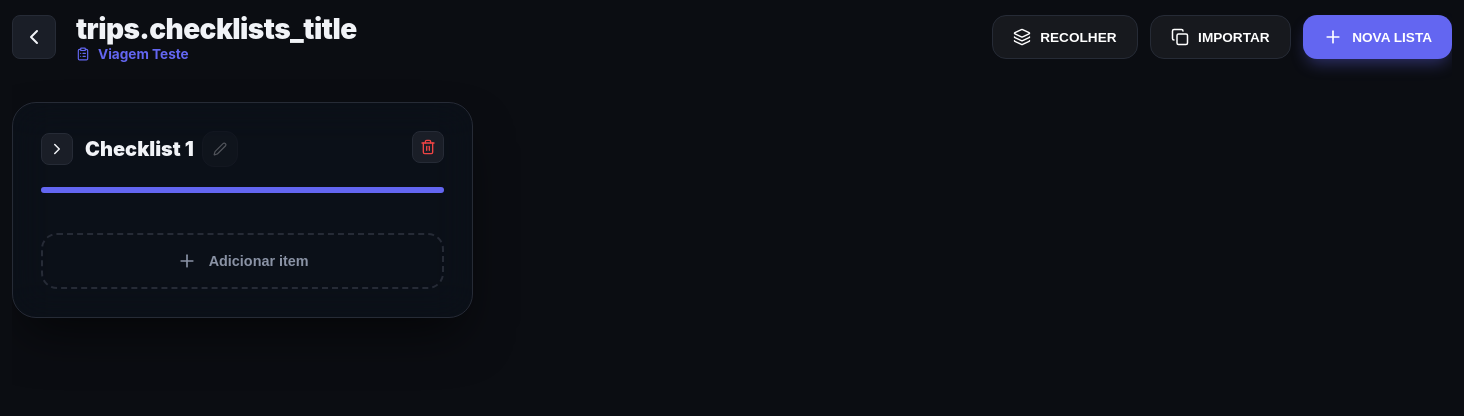
TripChecklists › allows adding an item to a checklist
Expected: the heading "Checklist 1" is shown, [85, 137, 194, 161]
Click the button "Adicionar item" at (243, 261), box [41, 233, 444, 289]
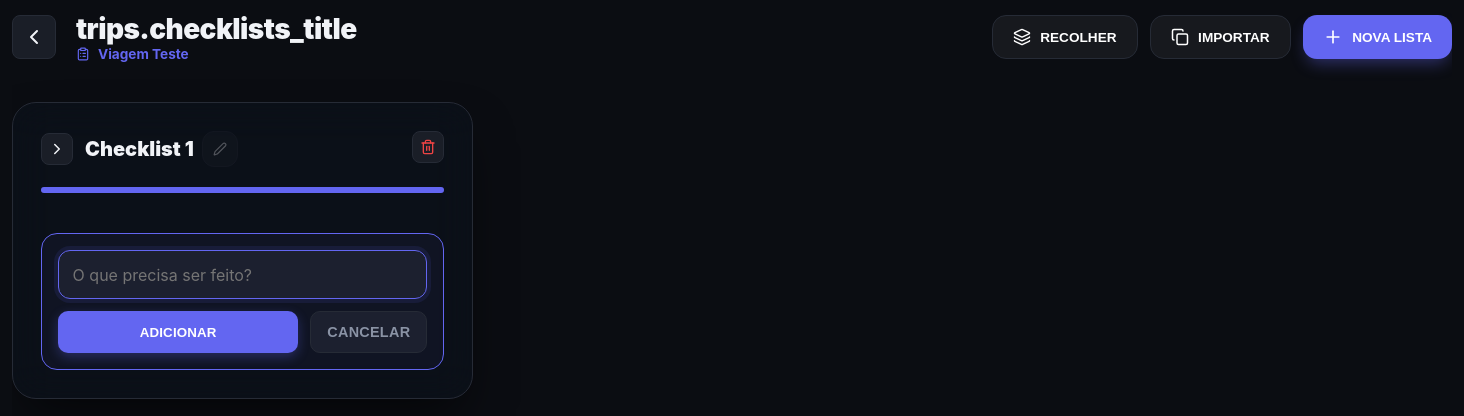
Type "Nova Tarefa" into the field with placeholder "O que precisa ser feito?" at (243, 275), box [58, 250, 427, 299]
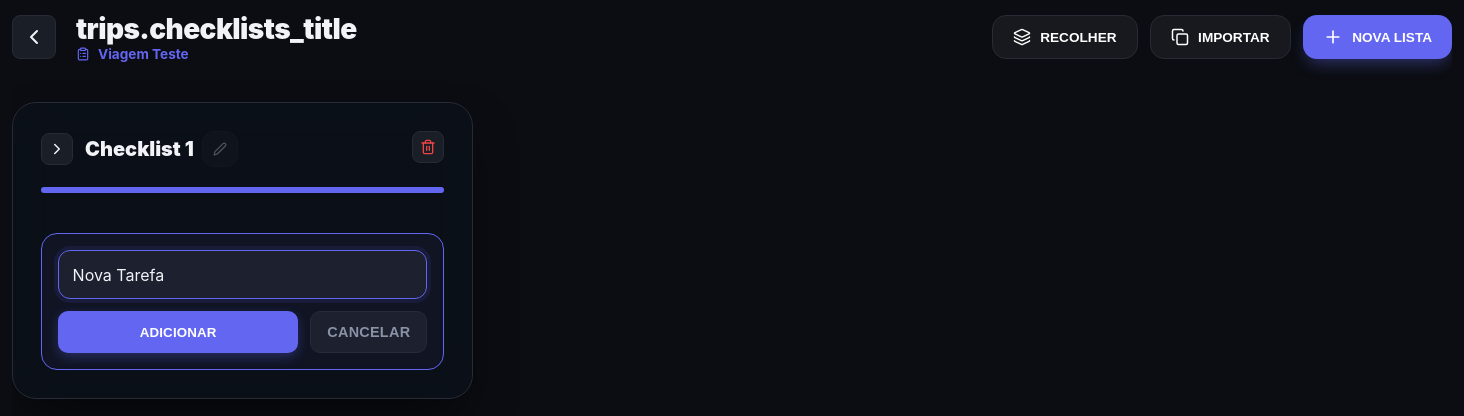
Click the button "ADICIONAR" at (178, 332), box [58, 311, 298, 353]
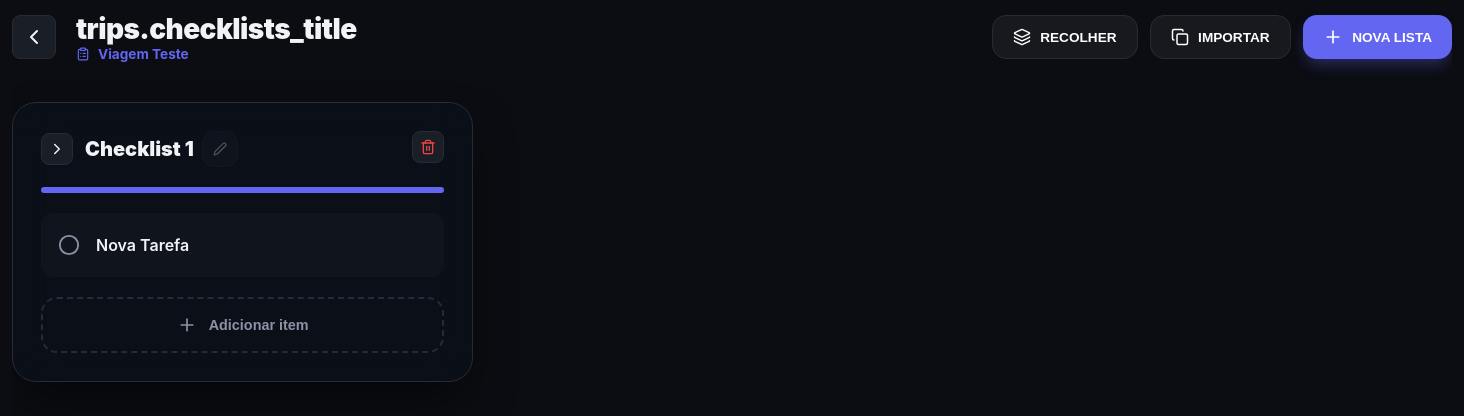
Expected: the text "Nova Tarefa" is shown, [96, 235, 189, 255]
